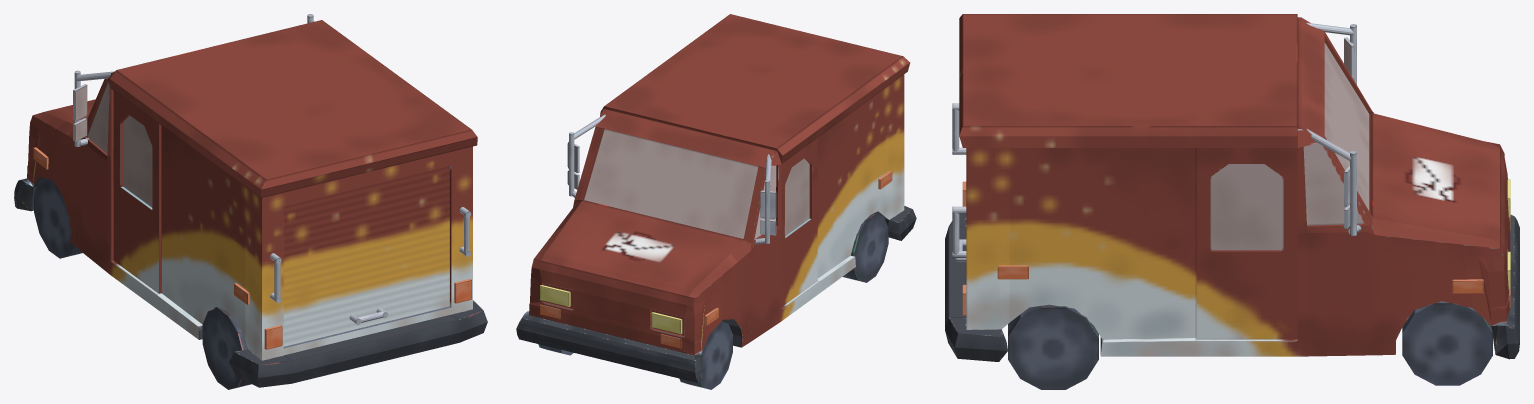
The model's file is DeliveryVan.fbx.
The picture shows the model from 3 angles, left to right: view 1: azimuth 30°, elevation 25°; view 2: azimuth 150°, elevation 25°; view 3: azimuth 270°, elevation 25°; orthographic projection. The views are drawn at different scales.
Parts seen in each view (by area): view 1: Base, cylinder_1, cylinder, cuboid_4, cuboid_6; view 2: Base, cylinder_1, cylinder, cuboid_3, cuboid_10, cylinder_16; view 3: Base, cylinder_17, cylinder_18, cylinder_16.
Part boxes in pixels (x1,y1,x2,y2): Base: [14, 20, 487, 387]; cylinder_1: [202, 308, 251, 389]; cylinder: [34, 178, 82, 258]; cuboid_4: [73, 84, 87, 121]; cuboid_6: [264, 325, 282, 349]; Base: [516, 14, 916, 382]; cylinder_1: [842, 213, 888, 282]; cylinder: [679, 321, 732, 389]; cuboid_3: [651, 312, 682, 334]; cuboid_10: [540, 285, 570, 306]; cylinder_16: [569, 132, 574, 196]; Base: [945, 14, 1519, 361]; cylinder_17: [1008, 304, 1098, 389]; cylinder_18: [1402, 301, 1492, 385]; cylinder_16: [1350, 151, 1356, 235].
Bounding box in the file's own units: 57.15 × 51.88 × 103.
1 material, 1 textured.
